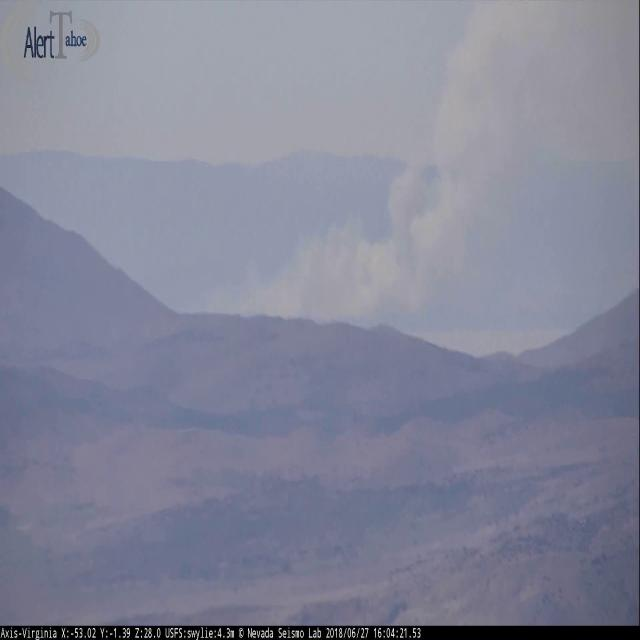smoke: (202, 0, 634, 331)
